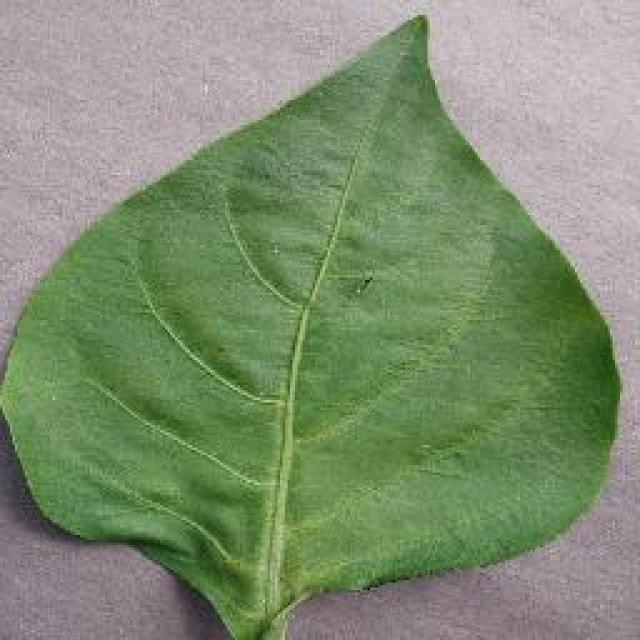Chilli_Healthy: (0, 10, 622, 637)
